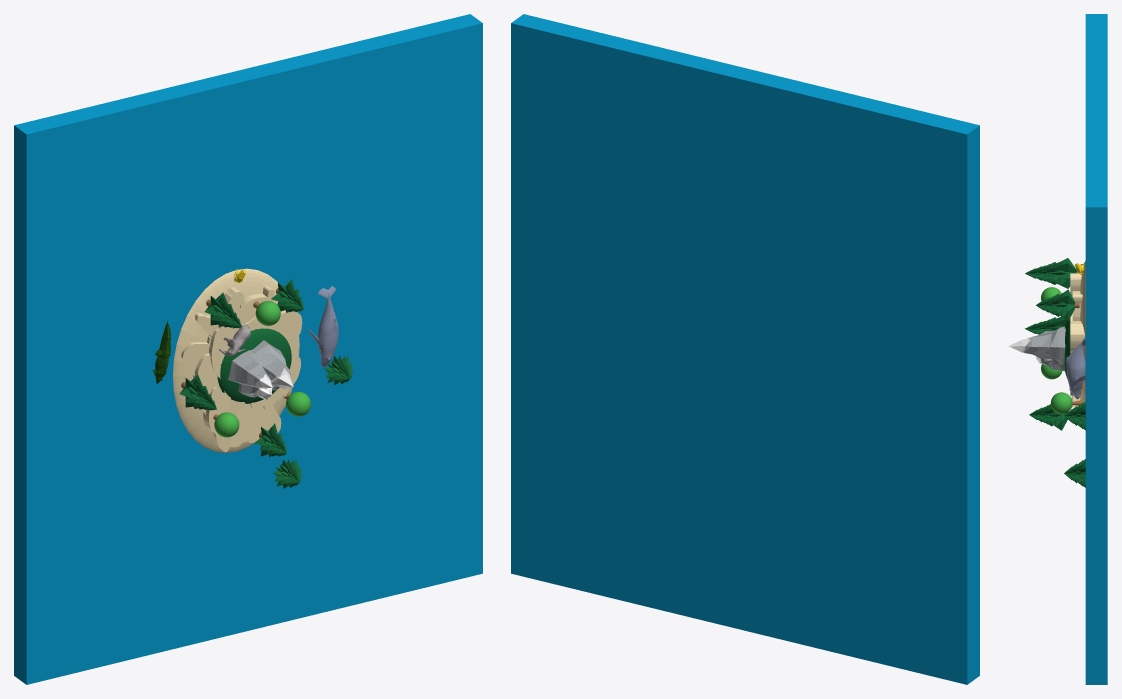
Rendered from tinker.obj.
3 renders of one model, left to right at view 1: azimuth 30°, elevation 25°; view 2: azimuth 150°, elevation 25°; view 3: azimuth 270°, elevation 25°, orthographic. The views are drawn at different scales.
Visible parts, largest first — view 1: group_0_40919, group_0_16311991, group_0_1206582, group_0_10988977, group_0_4634441, group_0_9806015; view 2: group_0_40919; view 3: group_0_40919, group_0_1206582, group_0_16311991, group_0_10988977, group_0_9806015, group_0_4634441, group_0_16448250.
Boxes of the visible parts, x1,y1,x2,y2 form: group_0_40919: (14,14,482,684); group_0_16311991: (173,268,302,452); group_0_1206582: (180,279,352,488); group_0_10988977: (228,340,291,397); group_0_4634441: (214,301,310,437); group_0_9806015: (308,286,338,367); group_0_40919: (511,14,979,684); group_0_40919: (1085,14,1107,684); group_0_1206582: (1025,258,1085,487); group_0_16311991: (1070,261,1085,423); group_0_10988977: (1024,326,1065,371); group_0_9806015: (1066,336,1085,399); group_0_4634441: (1041,287,1072,413); group_0_16448250: (1009,336,1045,365).
Bounding box in the file's own units: 419 × 483 × 90.79.
